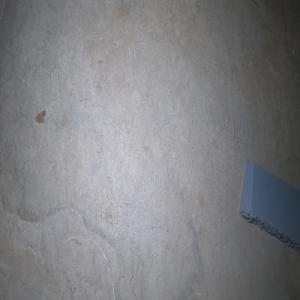PlasticPart: (239, 159, 300, 253)
